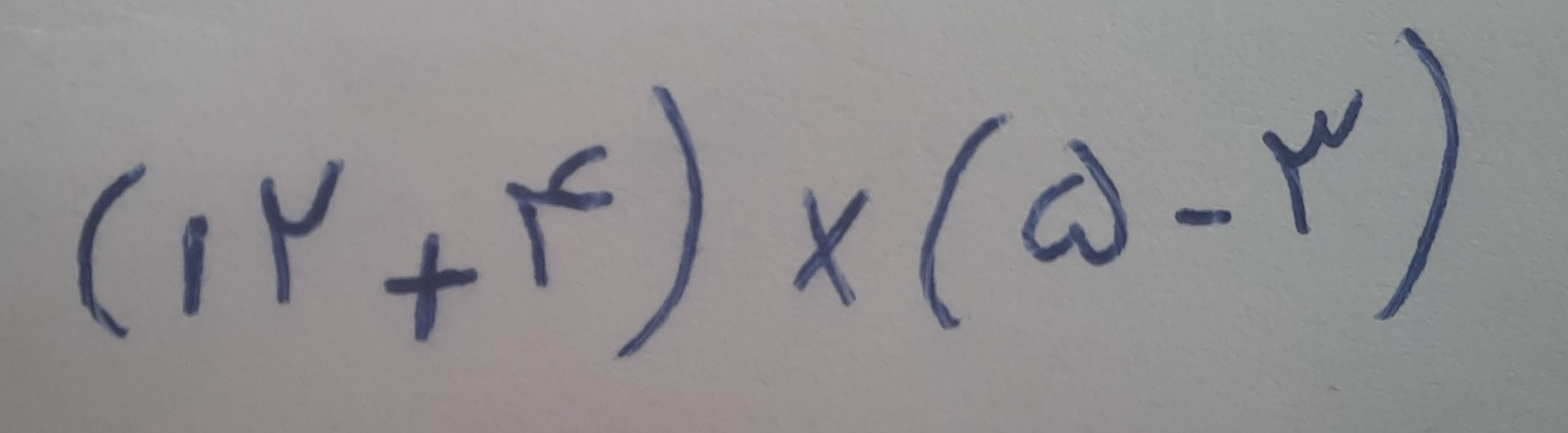character: (1365, 24, 1464, 328), (613, 79, 706, 365), (915, 106, 1017, 337), (501, 139, 619, 292), (1259, 85, 1367, 242), (1020, 134, 1132, 273), (72, 160, 152, 344), (256, 152, 348, 309), (378, 229, 480, 348), (790, 181, 873, 309), (177, 209, 211, 322), (1170, 200, 1236, 232)
